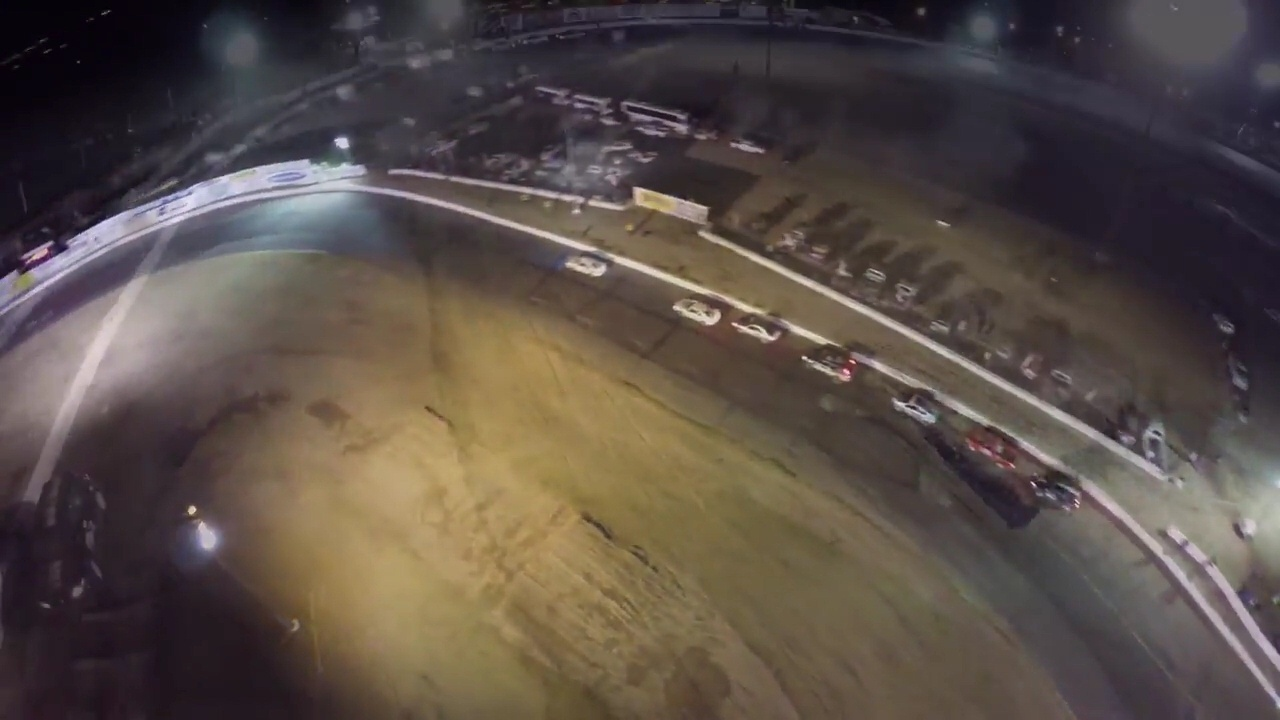araba: (888, 383, 948, 425), (801, 344, 859, 385), (725, 308, 782, 341), (673, 293, 723, 328), (561, 248, 612, 278)
